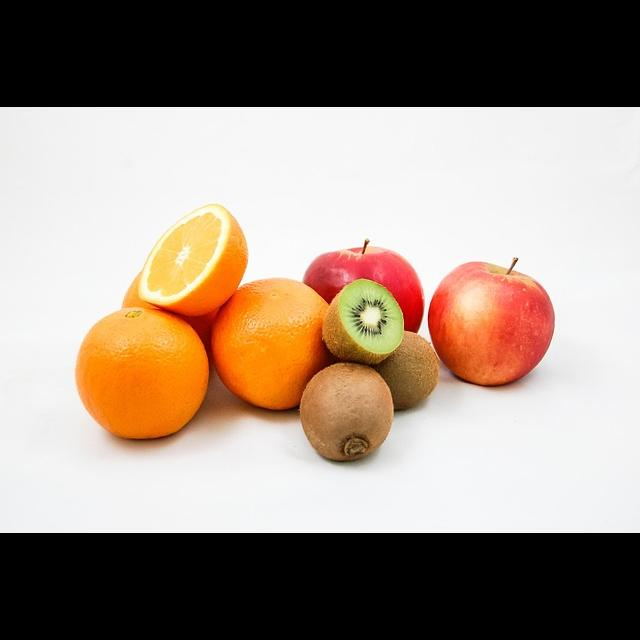durian: (428, 246, 575, 395), (303, 228, 424, 363)
orange: (60, 298, 219, 453), (207, 267, 331, 418), (119, 207, 266, 324), (112, 256, 232, 384)
